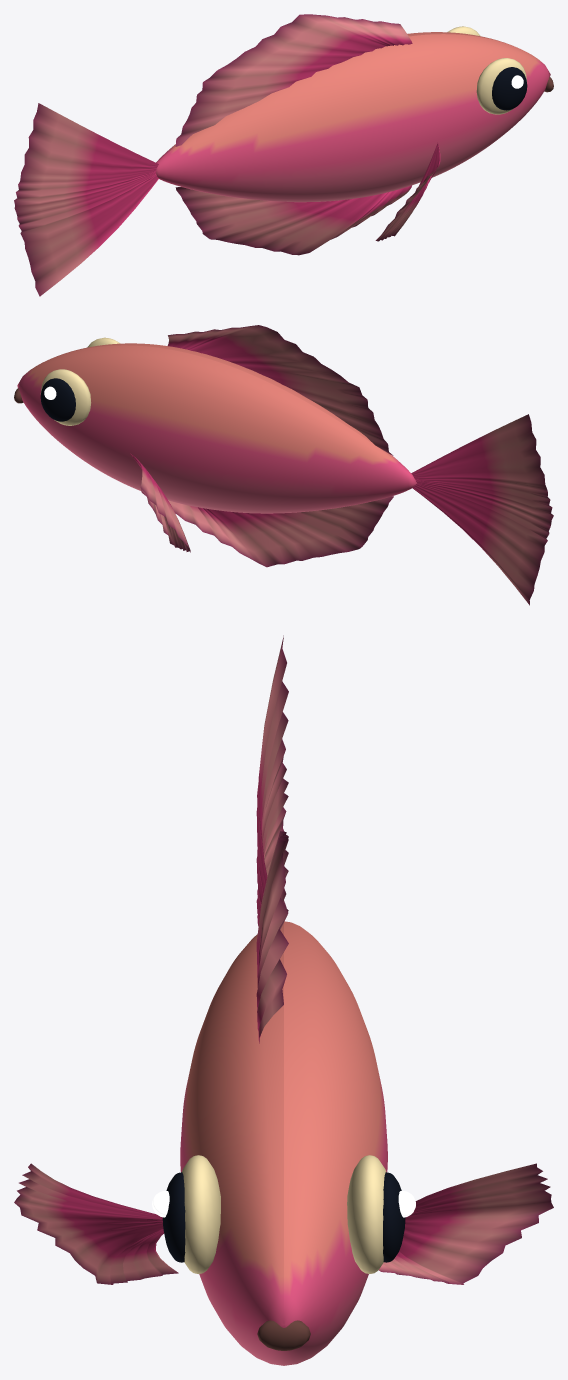
The model's file is ruby.glb.
3 views of the same model, one above another, from view 1: azimuth 30°, elevation 25°; view 2: azimuth 150°, elevation 25°; view 3: azimuth 270°, elevation 25° (orthographic). The views are drawn at different scales.
Visible parts, largest first — view 1: Body, TailMembrane, FinDorsalMembrane, FinVentralMembrane, EyeL, FinPectoralLMembrane; view 2: Body, TailMembrane, FinVentralMembrane, FinDorsalMembrane, EyeR, FinPectoralRMembrane; view 3: Body, FinPectoralRMembrane, FinPectoralLMembrane, EyeR, EyeL, TailMembrane, FinDorsalMembrane, Mouth.
Part boxes in pixels (left/top/right/bottom): Body: left=156, top=32, right=550, bottom=202; TailMembrane: left=14, top=103, right=158, bottom=296; FinDorsalMembrane: left=175, top=14, right=412, bottom=146; FinVentralMembrane: left=175, top=185, right=411, bottom=255; EyeL: left=476, top=58, right=527, bottom=114; FinPectoralLMembrane: left=375, top=142, right=440, bottom=241; Body: left=17, top=343, right=416, bottom=513; TailMembrane: left=411, top=414, right=553, bottom=605; FinVentralMembrane: left=169, top=496, right=393, bottom=567; FinDorsalMembrane: left=167, top=325, right=393, bottom=455; EyeR: left=40, top=369, right=91, bottom=425; FinPectoralRMembrane: left=130, top=453, right=190, bottom=552; Body: left=180, top=921, right=387, bottom=1365; FinPectoralRMembrane: left=379, top=1163, right=553, bottom=1284; FinPectoralLMembrane: left=14, top=1163, right=178, bottom=1284; EyeR: left=347, top=1155, right=415, bottom=1273; EyeL: left=152, top=1155, right=220, bottom=1273; TailMembrane: left=256, top=635, right=288, bottom=926; FinDorsalMembrane: left=256, top=831, right=288, bottom=1043; Mouth: left=257, top=1320, right=310, bottom=1350.
Size of the model in its own units: 2.21 by 0.9467 by 0.9662.
